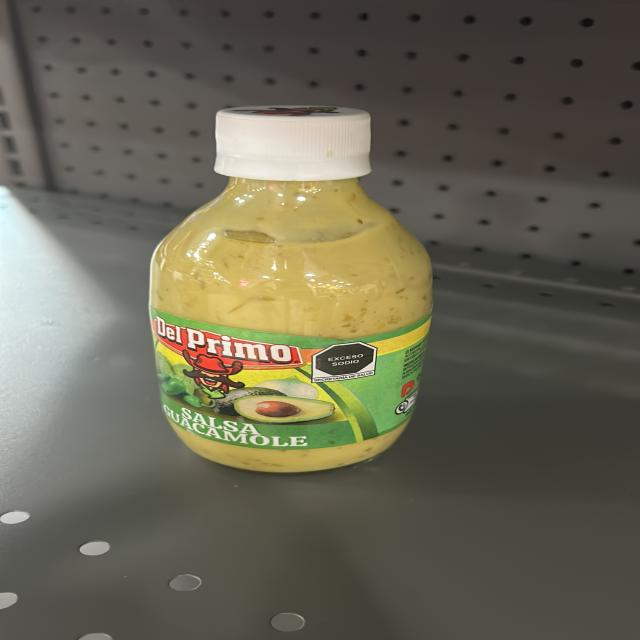delPrimoSalsa: (155, 121, 443, 471)
